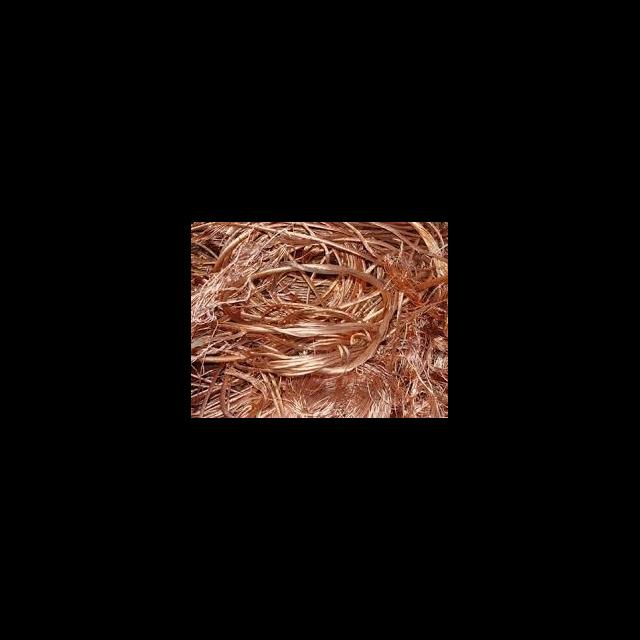metal: (214, 303, 386, 353), (240, 222, 390, 271), (202, 342, 386, 381), (238, 256, 388, 302)
